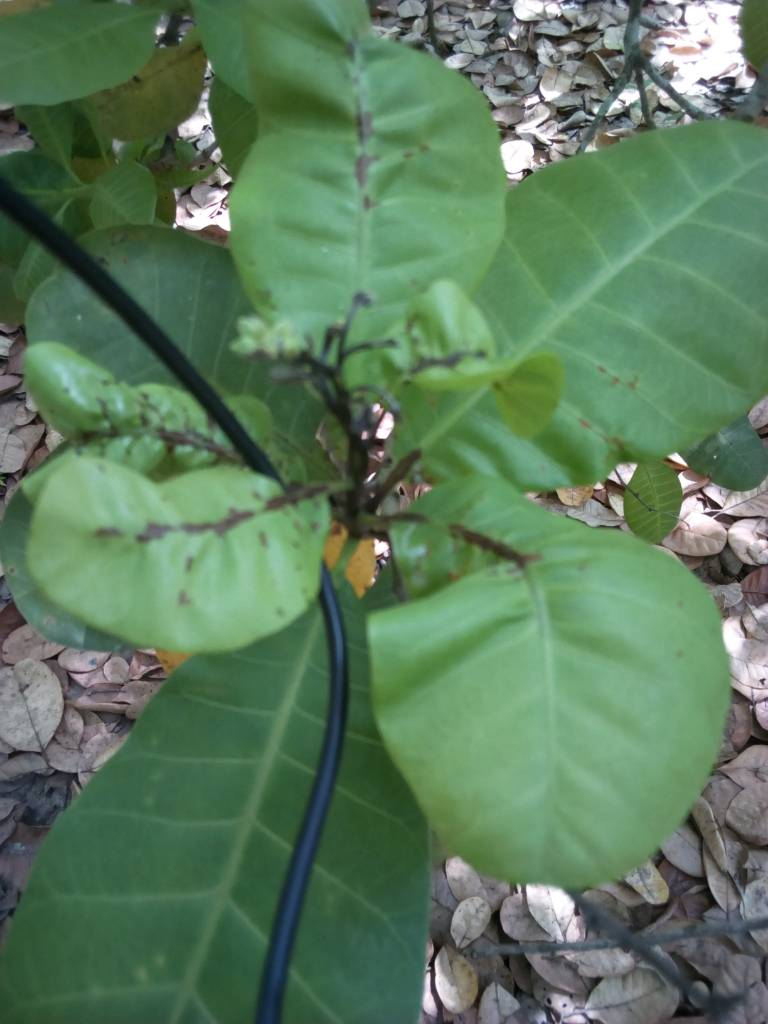Anthracnose: (21, 466, 336, 647)
